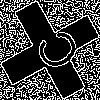C: (25, 25, 83, 79)
